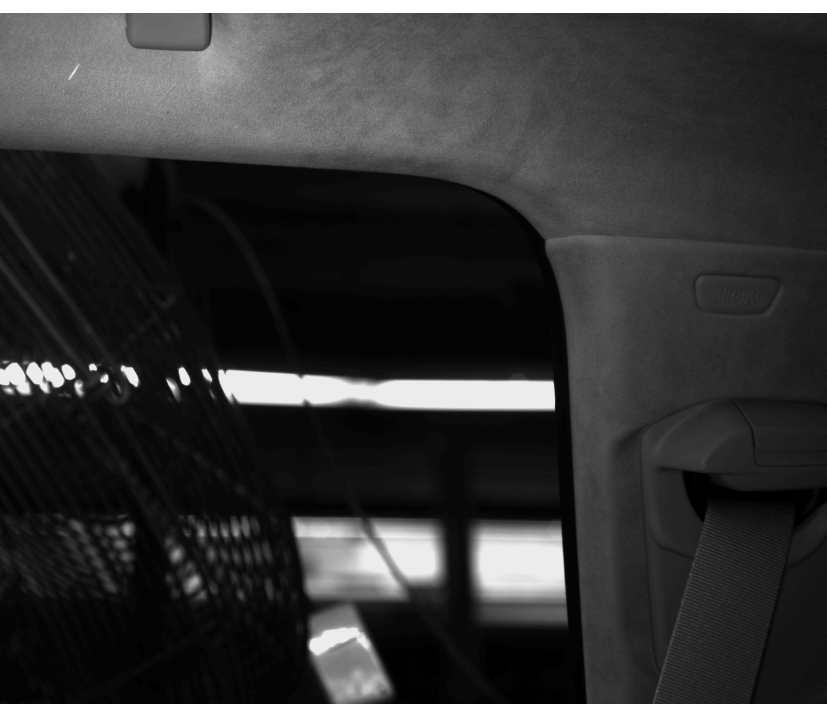camerafault: (687, 255, 792, 333)
